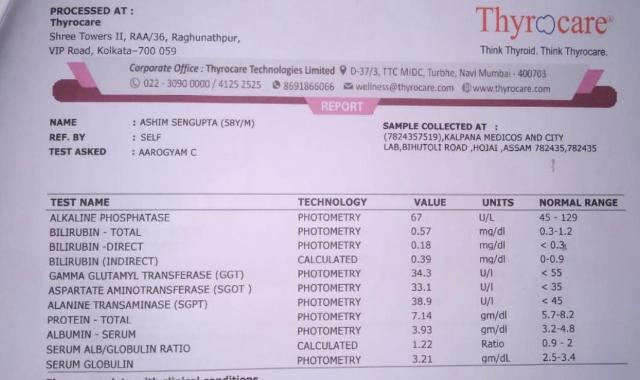Name: (138, 117, 258, 130)
Ref_By: (139, 133, 169, 143)
Reference_Range: (535, 210, 591, 364)
Technology: (291, 210, 368, 371)
Test_Asked: (137, 147, 198, 158)
Test_Name: (44, 207, 271, 372)
Unit: (470, 209, 519, 367)
Value: (403, 209, 443, 363)
